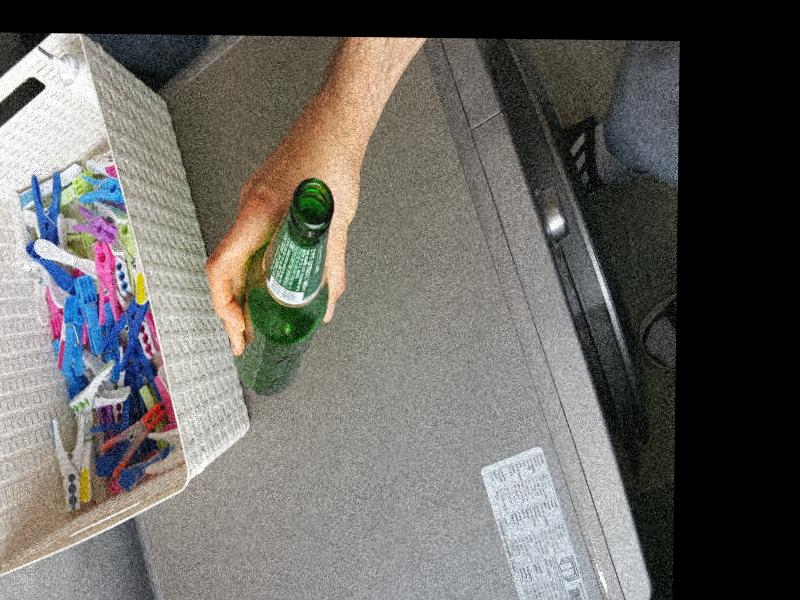Beer: (230, 177, 335, 395)
